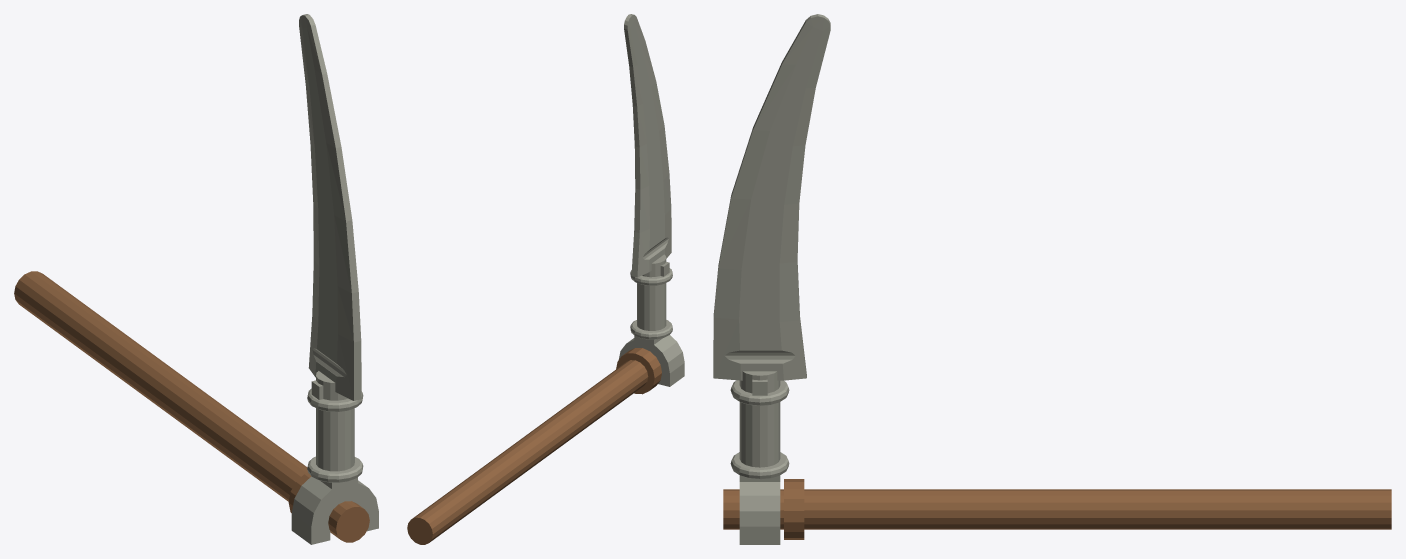
File: Scythe.fbx
3 renders of one model, left to right at view 1: azimuth 30°, elevation 25°; view 2: azimuth 150°, elevation 25°; view 3: azimuth 270°, elevation 25°, orthographic. The views are drawn at different scales.
Parts seen in each view (by area): view 1: Piece000, Piece001; view 2: Piece000, Piece001; view 3: Piece000, Piece001.
Part boxes in pixels (x1,y1,x2,y2): Piece000: (291, 14, 378, 544); Piece001: (14, 271, 369, 542); Piece000: (618, 14, 684, 386); Piece001: (407, 348, 661, 544); Piece000: (713, 14, 830, 544); Piece001: (723, 479, 1391, 539).
Size of the model in its own units: 16 by 114 by 134.
